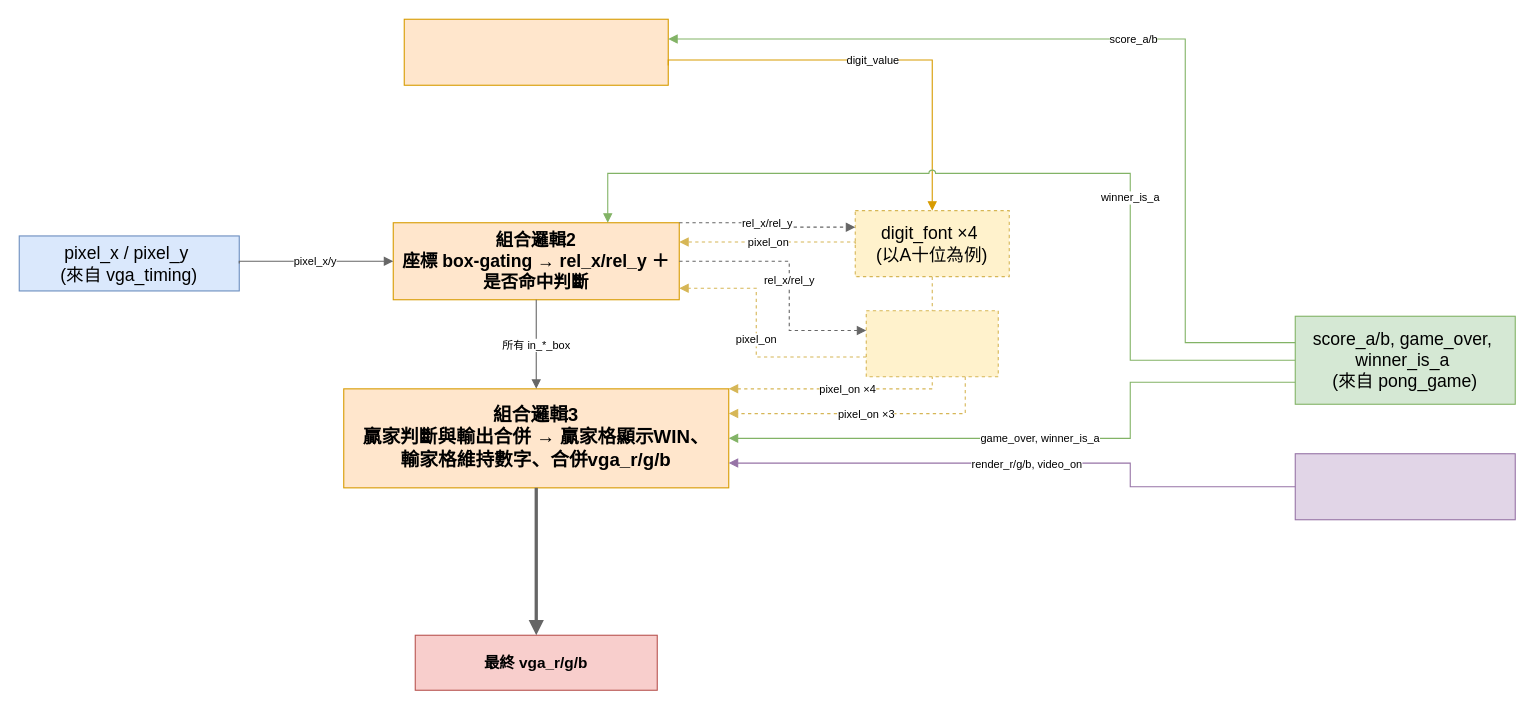
This 1535x710 diagram has some shape labels left out. The centre of each missing label's shape, as x and y in pixels:
letter_font ×3 (以W為例): the point at 931,343
render_r/g/b, video_on (來自 pong_render): the point at 1404,486
組合邏輯1 分數拆位 → 十位/個位數字值: the point at 535,51
